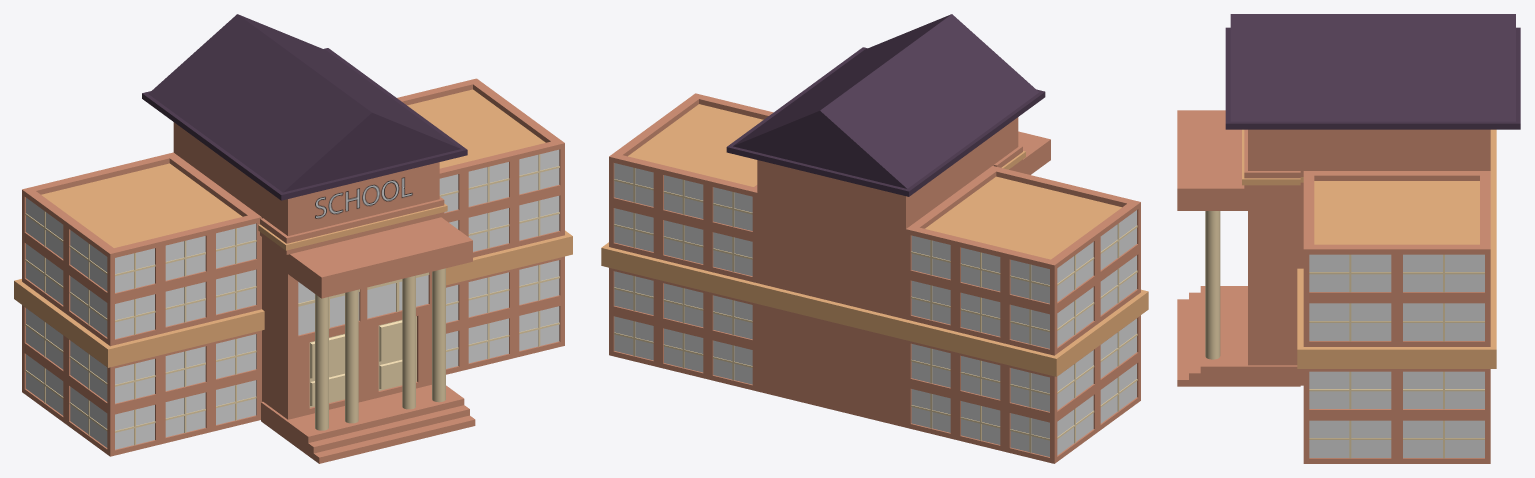
The model's file is government-building-school.fbx.
The picture shows the model from 3 angles, left to right: view 1: azimuth 30°, elevation 25°; view 2: azimuth 150°, elevation 25°; view 3: azimuth 270°, elevation 25°; orthographic projection. The views are drawn at different scales.
Visible parts, largest first — view 1: government-building-school; view 2: government-building-school; view 3: government-building-school.
Part boxes in pixels (bbox=[...]): government-building-school: bbox=[14, 14, 572, 463]; government-building-school: bbox=[601, 14, 1148, 463]; government-building-school: bbox=[1177, 14, 1520, 463].
Bounding box in the file's own units: 18.55 × 11.97 × 11.22.
